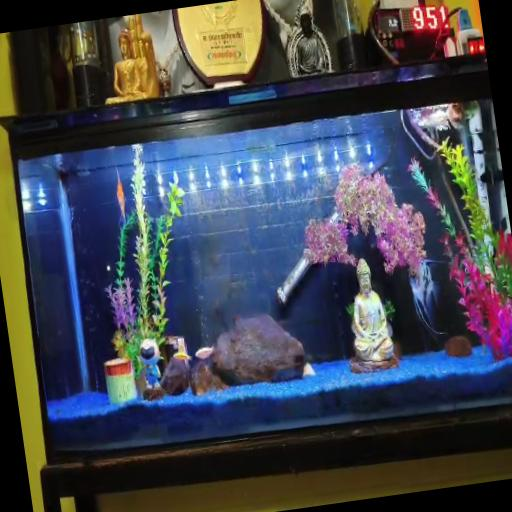Fish: (409, 260, 446, 342), (116, 167, 126, 225)
